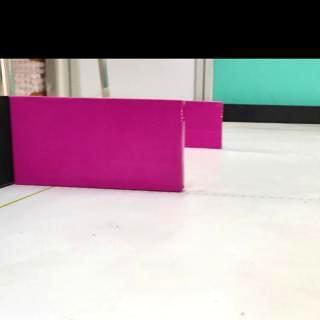xparking: (14, 98, 181, 187), (186, 102, 220, 147)
